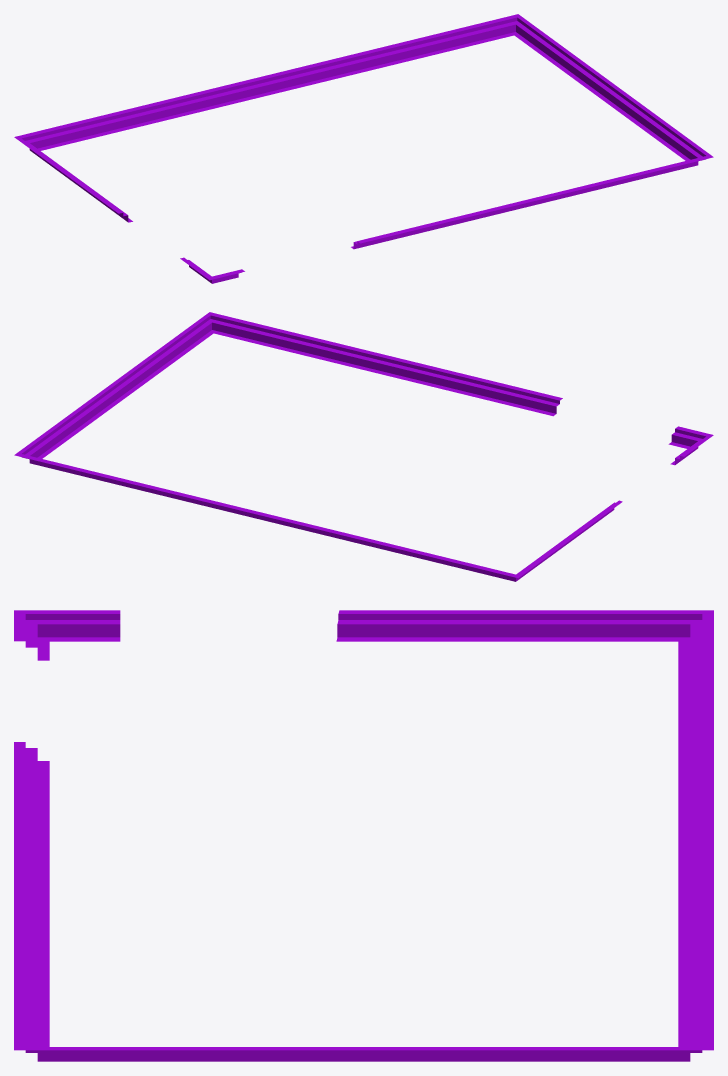
File: sm_room_trims_low.fbx
3 views of the same model, one above another, from view 1: azimuth 30°, elevation 25°; view 2: azimuth 150°, elevation 25°; view 3: azimuth 270°, elevation 25° (orthographic). The views are drawn at different scales.
Visible parts, largest first — view 1: polySurface55; view 2: polySurface55; view 3: polySurface55.
Part boxes in pixels (x1,y1,x2,y2): polySurface55: (14,14,713,283); polySurface55: (14,312,713,581); polySurface55: (14,610,713,1061).
Size of the model in its own units: 2000 by 40.65 by 1344.
